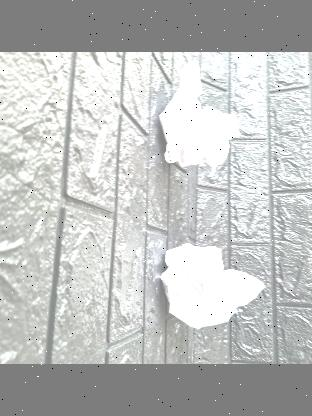Others: (156, 64, 238, 176), (164, 238, 260, 332)
